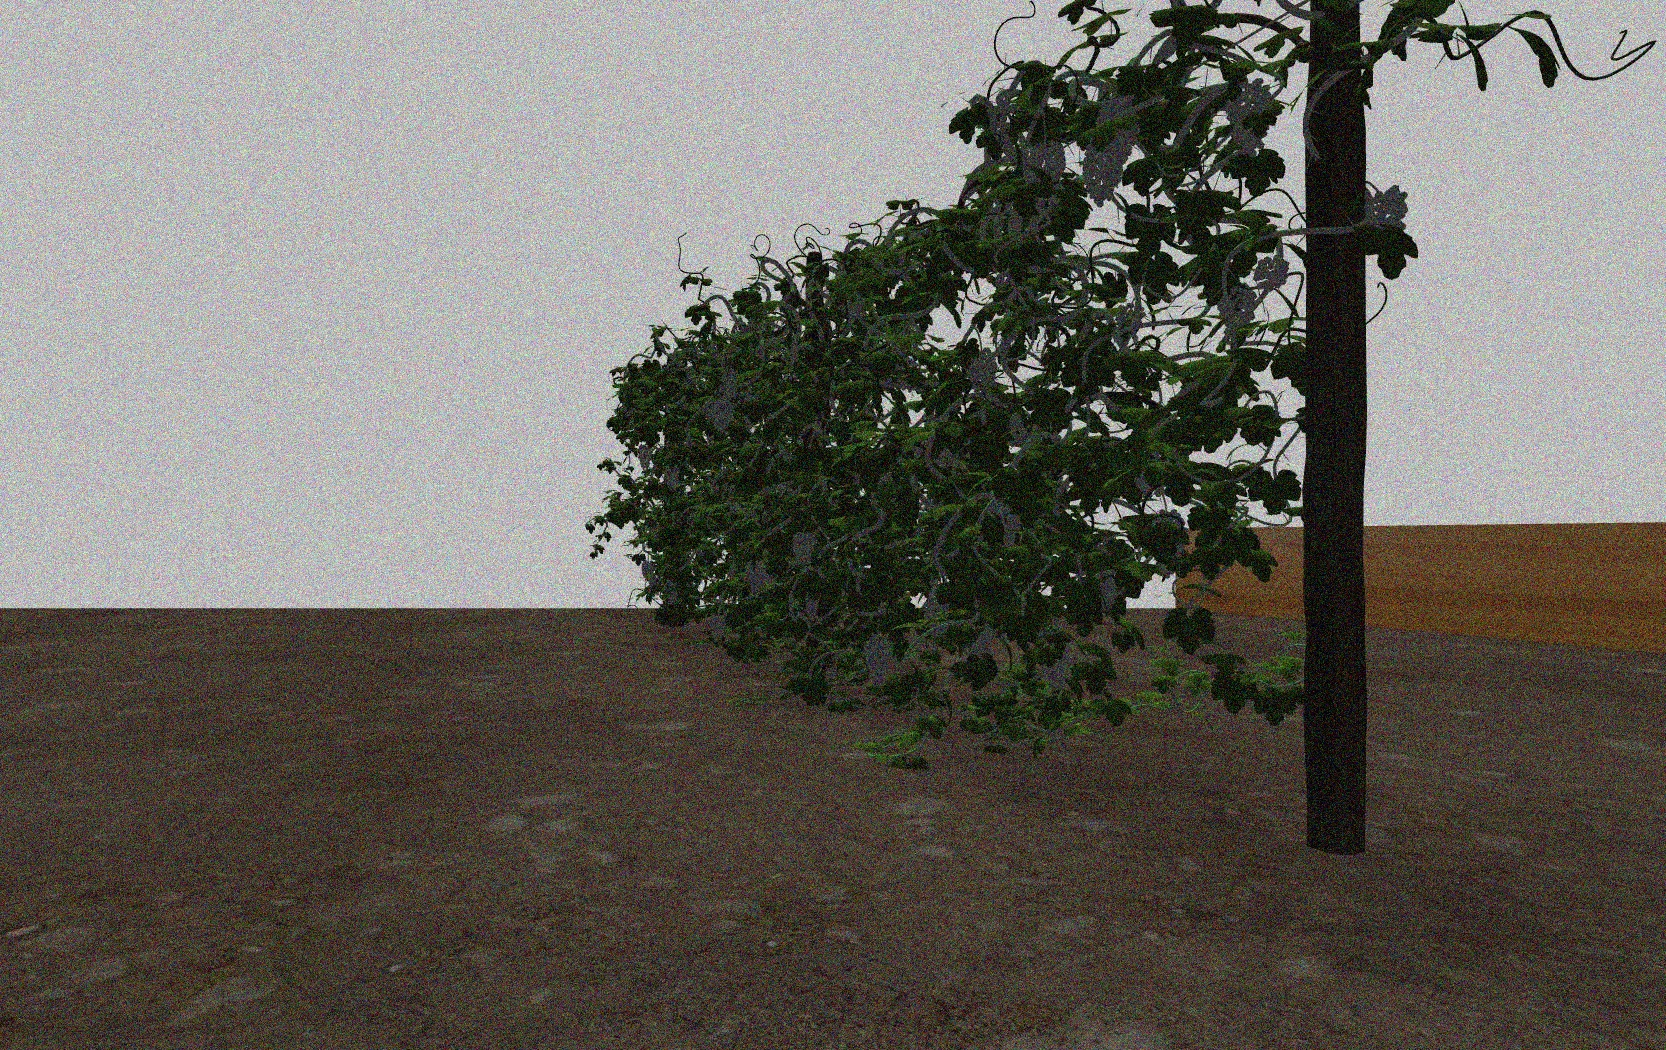grape: (1230, 77, 1273, 157), (1097, 94, 1141, 165), (1078, 145, 1123, 208), (1026, 138, 1066, 187), (1371, 181, 1411, 229), (1220, 285, 1257, 331), (864, 631, 893, 686), (1253, 254, 1290, 293), (967, 347, 999, 392), (922, 585, 949, 636), (1046, 648, 1072, 690), (966, 625, 997, 659), (789, 530, 816, 564), (744, 556, 767, 594), (710, 400, 734, 434), (1097, 578, 1118, 613), (707, 615, 727, 644), (636, 444, 654, 471), (663, 465, 679, 492), (663, 579, 679, 604), (641, 561, 656, 583)
